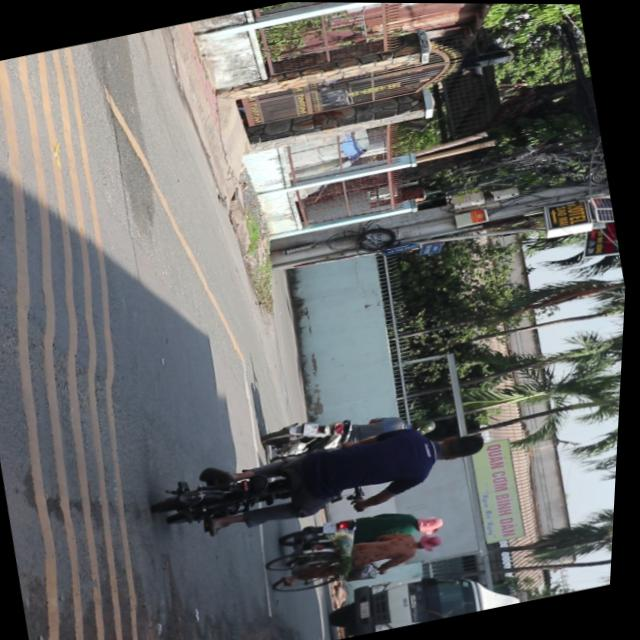licenseplate: (151, 406, 500, 551)
motorcyclist: (435, 427, 493, 464)
